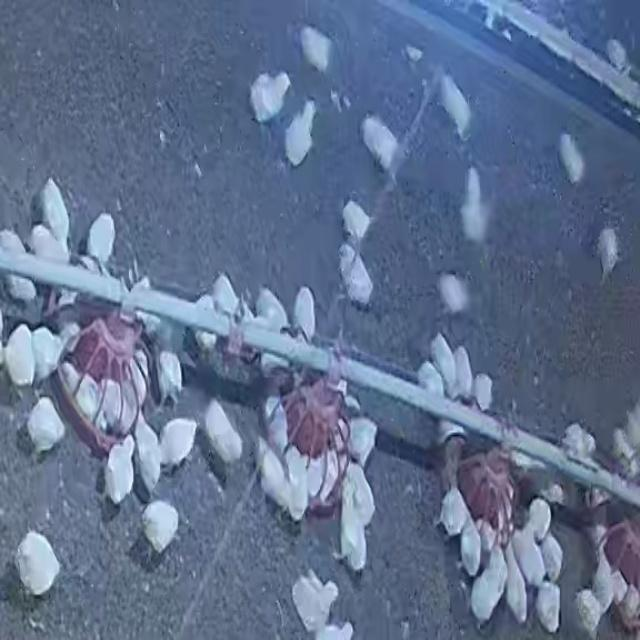chicken: (58, 364, 104, 440), (13, 530, 62, 598), (255, 431, 292, 520), (497, 531, 530, 626), (335, 480, 369, 570), (469, 545, 507, 624), (290, 572, 338, 632), (0, 231, 38, 305), (202, 399, 244, 465), (25, 395, 68, 457), (277, 441, 308, 526), (359, 114, 400, 178), (158, 416, 202, 474), (247, 70, 294, 124), (37, 176, 71, 246), (437, 72, 472, 140), (510, 516, 543, 588), (306, 447, 341, 514), (93, 378, 132, 438), (3, 322, 38, 388), (104, 435, 137, 505), (140, 499, 181, 555), (460, 168, 490, 244), (338, 245, 373, 310), (345, 450, 376, 523), (133, 417, 163, 492), (284, 99, 317, 167), (263, 383, 292, 456), (30, 326, 64, 385), (438, 484, 473, 538), (124, 347, 151, 415), (155, 348, 186, 407), (430, 330, 459, 393), (455, 511, 481, 581), (588, 554, 616, 615), (85, 212, 116, 266), (346, 415, 378, 467), (195, 294, 221, 357), (299, 25, 332, 74), (535, 521, 561, 583), (255, 286, 290, 332), (560, 423, 598, 463), (558, 132, 586, 185), (438, 272, 470, 318), (211, 271, 242, 318), (341, 198, 373, 243), (573, 588, 604, 634), (534, 582, 562, 632), (596, 226, 620, 284), (292, 285, 316, 340), (523, 497, 551, 541), (611, 426, 638, 470), (455, 346, 474, 401), (416, 359, 443, 397), (1, 229, 27, 259), (605, 38, 628, 71), (472, 373, 492, 410)
